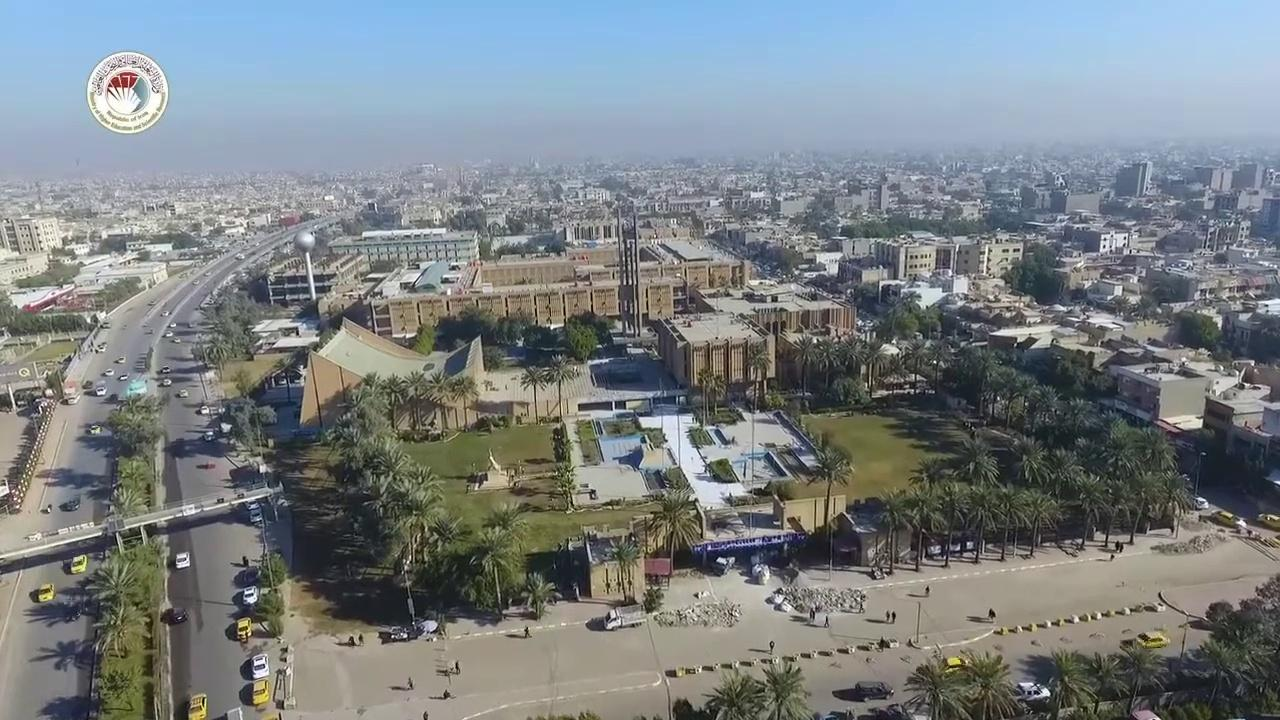car: (603, 603, 647, 631), (1012, 681, 1051, 710), (854, 680, 895, 701), (1212, 509, 1248, 532), (1135, 631, 1170, 649), (186, 692, 208, 720), (940, 656, 969, 677), (249, 652, 271, 679), (28, 583, 55, 602), (250, 679, 270, 700), (167, 606, 187, 624), (236, 616, 251, 640), (389, 625, 409, 641), (242, 585, 258, 604), (174, 551, 190, 569), (248, 505, 264, 523), (65, 493, 80, 512), (1192, 495, 1209, 510), (1256, 512, 1279, 523), (70, 558, 85, 570), (203, 430, 215, 441), (88, 424, 101, 434), (175, 389, 188, 398), (66, 395, 78, 404), (234, 252, 245, 260), (160, 365, 171, 373), (114, 356, 125, 363), (160, 310, 169, 316)
person: (856, 598, 869, 616), (820, 614, 834, 629), (989, 608, 997, 626), (523, 625, 531, 638), (406, 676, 413, 689), (884, 610, 891, 623), (347, 635, 355, 646), (454, 660, 460, 674), (770, 640, 776, 654), (358, 633, 364, 645), (809, 610, 815, 622), (892, 610, 897, 624), (422, 710, 429, 719), (926, 585, 930, 596)
tree: (878, 357, 1191, 566), (901, 572, 1279, 718), (324, 370, 472, 628), (28, 527, 173, 719), (340, 366, 478, 439), (1195, 601, 1279, 717), (82, 551, 151, 658), (805, 430, 854, 580), (378, 460, 445, 569), (468, 524, 525, 619), (646, 484, 702, 575), (953, 647, 1020, 718), (1112, 638, 1168, 717), (898, 481, 943, 571), (1195, 632, 1248, 708), (901, 659, 967, 719), (226, 395, 276, 473), (105, 391, 166, 452), (940, 428, 1001, 488), (753, 659, 812, 718), (1047, 645, 1097, 714), (700, 667, 764, 719), (930, 479, 967, 568), (1014, 487, 1059, 557), (960, 483, 999, 563), (989, 483, 1027, 561), (876, 485, 908, 574), (95, 664, 145, 719), (542, 352, 580, 422), (604, 532, 641, 603), (1072, 469, 1105, 548), (479, 499, 530, 542), (116, 453, 154, 510), (791, 332, 820, 406), (424, 368, 455, 436), (693, 366, 725, 427), (401, 369, 432, 431), (518, 363, 548, 424), (447, 373, 479, 430), (377, 372, 408, 430), (522, 570, 558, 619), (900, 331, 928, 393), (109, 483, 148, 527), (923, 337, 953, 391), (858, 333, 883, 396), (563, 315, 597, 361), (254, 589, 285, 639), (747, 348, 771, 407), (551, 459, 578, 511), (258, 549, 287, 590), (411, 321, 436, 355), (708, 370, 726, 415), (641, 586, 664, 613)
